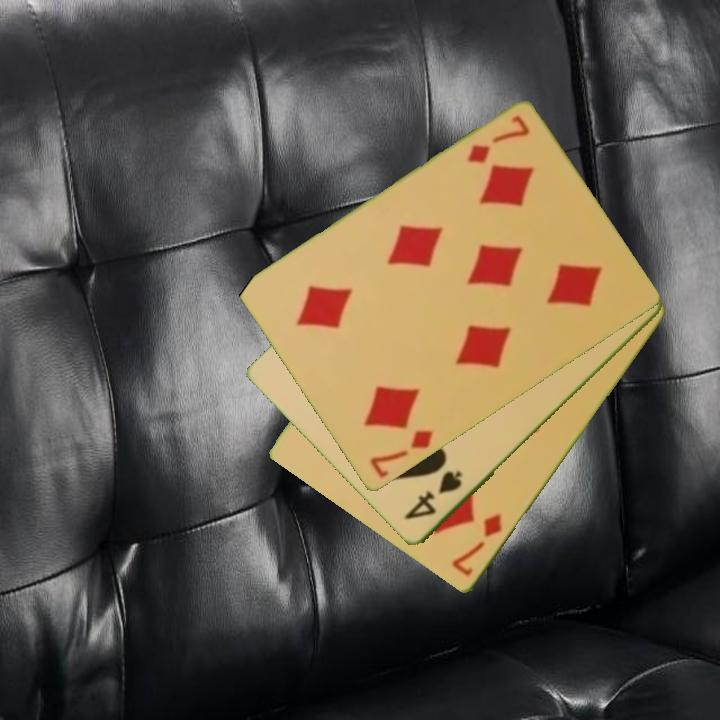4s: (401, 467, 466, 524)
7d: (448, 510, 505, 580), (366, 426, 436, 482), (463, 112, 533, 168)
